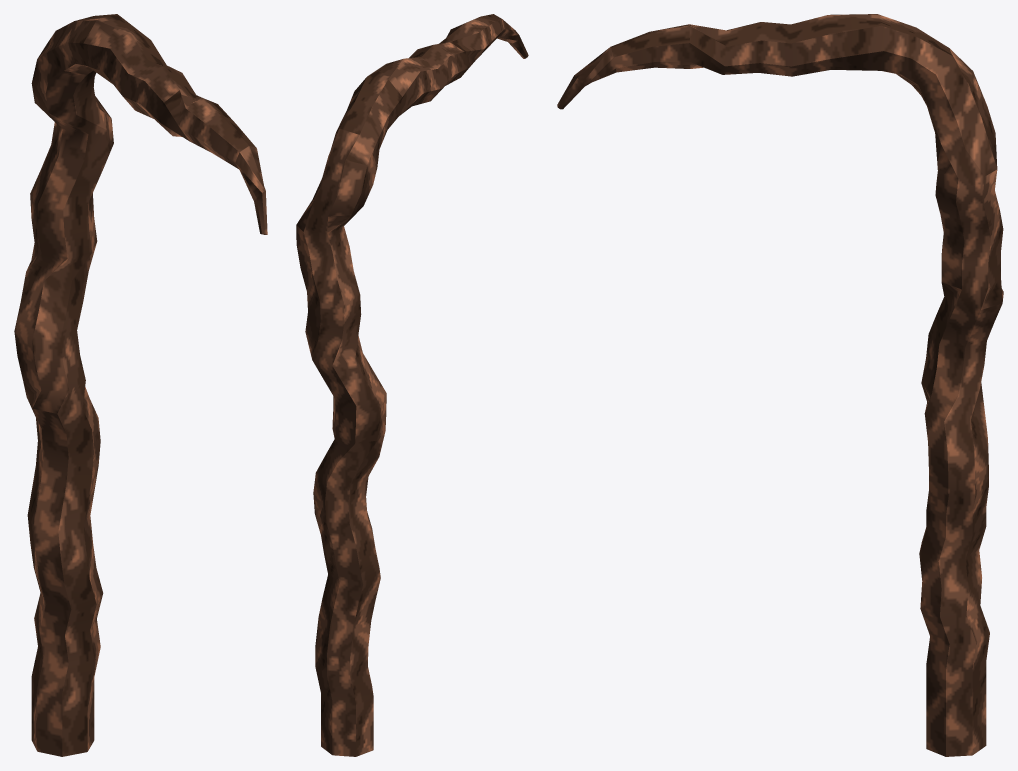
File: branches.fbx
The picture shows the model from 3 angles, left to right: view 1: azimuth 30°, elevation 25°; view 2: azimuth 150°, elevation 25°; view 3: azimuth 270°, elevation 25°; orthographic projection. The views are drawn at different scales.
Parts seen in each view (by area): view 1: pCylinder1; view 2: pCylinder1; view 3: pCylinder1.
Boxes of the visible parts, x1=… form: pCylinder1: x1=14, y1=14, x2=267, y2=756; pCylinder1: x1=296, y1=14, x2=528, y2=756; pCylinder1: x1=557, y1=14, x2=1003, y2=756.
Bounding box in the file's own units: 404 × 3128 × 1734.
